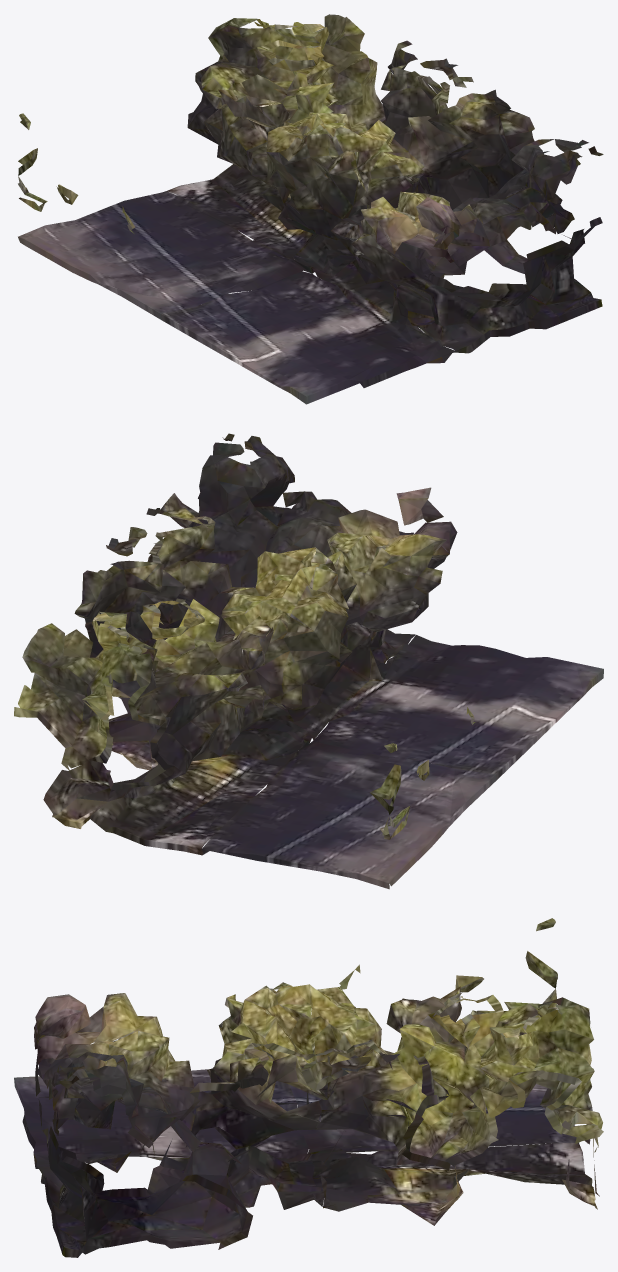
3 renders of one model, top to bottom at view 1: azimuth 30°, elevation 25°; view 2: azimuth 150°, elevation 25°; view 3: azimuth 270°, elevation 25°, orthographic. The views are drawn at different scales.
Parts seen in each view (by area): view 1: Mesh_0; view 2: Mesh_0; view 3: Mesh_0.
Boxes of the visible parts, box(x1,y1,x2,y2) form: Mesh_0: box(18, 14, 603, 404); Mesh_0: box(14, 433, 603, 889); Mesh_0: box(14, 918, 603, 1257).
Size of the model in its own units: 33.66 by 14.56 by 41.42.
1 material, 1 textured.
